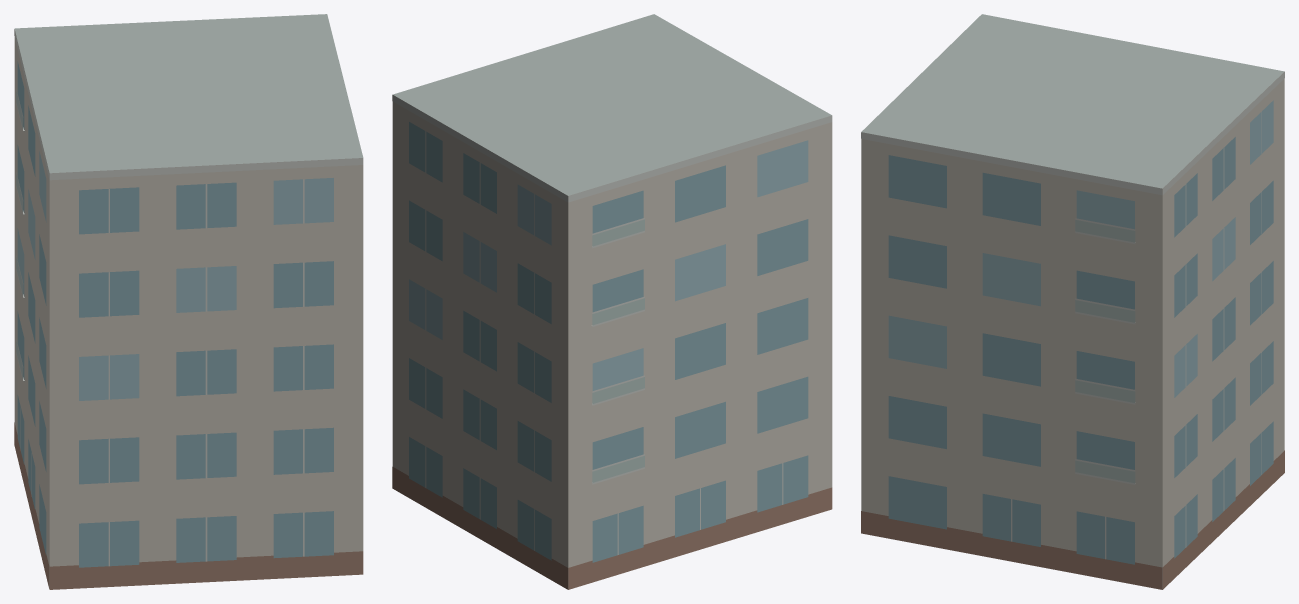
File: survey-upis-32533311.glb
3 views of the same model, side by side, from view 1: azimuth 30°, elevation 25°; view 2: azimuth 150°, elevation 25°; view 3: azimuth 270°, elevation 25° (orthographic). The views are drawn at different scales.
Parts seen in each view (by area): view 1: survey-upis-32533311.tmp; view 2: survey-upis-32533311.tmp; view 3: survey-upis-32533311.tmp.
Boxes of the visible parts, x1,y1,x2,y2 form: survey-upis-32533311.tmp: (14,14,363,589); survey-upis-32533311.tmp: (392,14,832,589); survey-upis-32533311.tmp: (861,14,1284,589).
Size of the model in its own units: 13.54 by 14.5 by 13.88.
